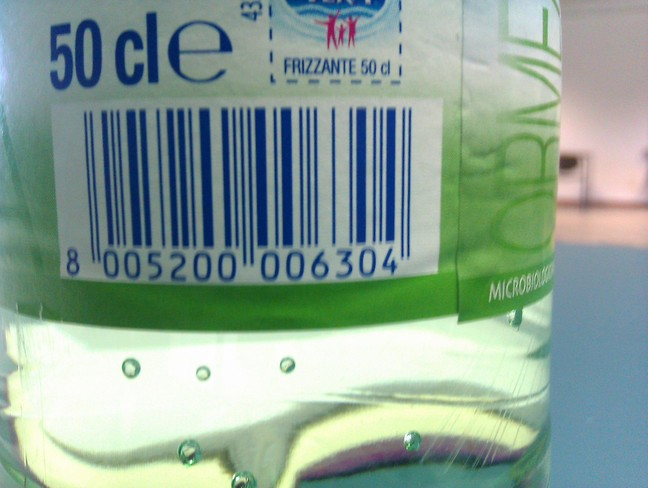barcode: (48, 103, 430, 286)
